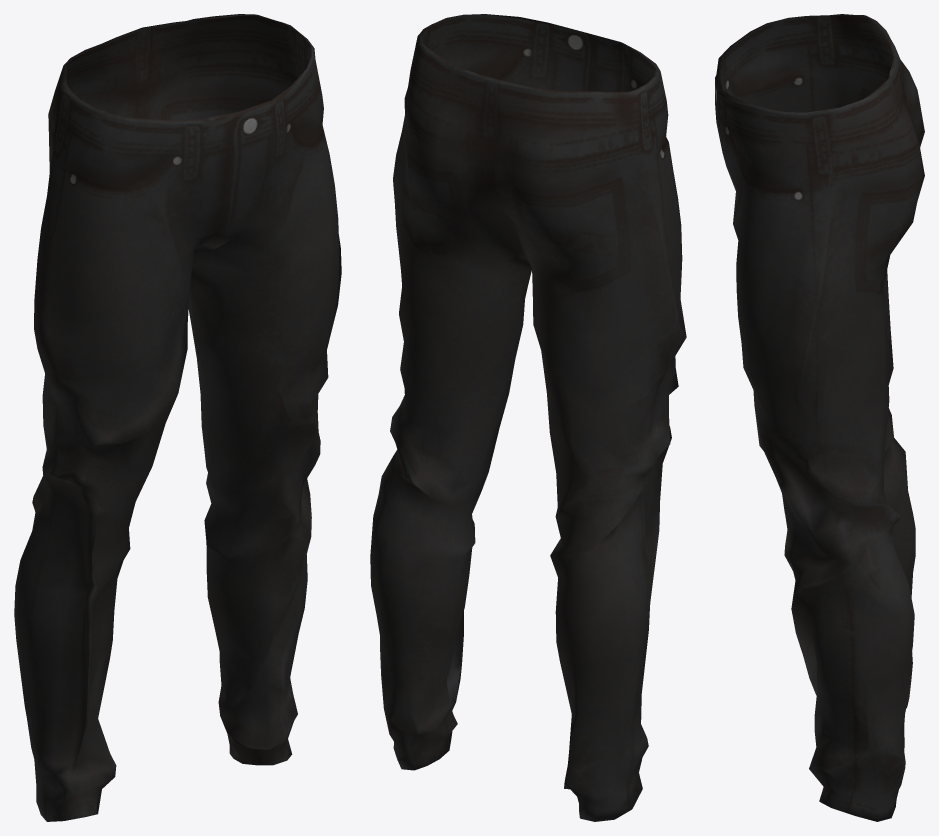
The model's file is black_pants.glb.
3 renders of one model, left to right at view 1: azimuth 30°, elevation 25°; view 2: azimuth 150°, elevation 25°; view 3: azimuth 270°, elevation 25°, orthographic. The views are drawn at different scales.
Visible parts, largest first — view 1: g; view 2: g; view 3: g.
Part boxes in pixels (x1=…): g: x1=14, y1=14, x2=341, y2=821; g: x1=370, y1=14, x2=686, y2=821; g: x1=715, y1=14, x2=924, y2=821.
Bounding box in the file's own units: 0.4032 × 0.9667 × 0.2552.
1 material, 1 textured.
